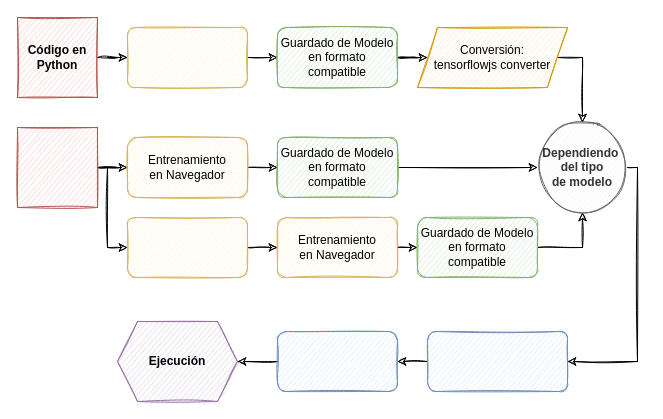
Some shapes in this 663 by 419 pixel diagram are drawn without their labels. The shapes that lost their labels are listed below. From the top down, each one's centre as x and y in pixels, then its label:
At point (187, 57): "Entrenamiento en Python".
At point (57, 167): "Código en JavaScript".
At point (187, 247): "Implementación de modelo preentrenado".
At point (337, 361): "Cargar Modelo: tf.loadModel()".
At point (497, 361): "Elección de Estilo/Diseño para visualizar ejecución".
